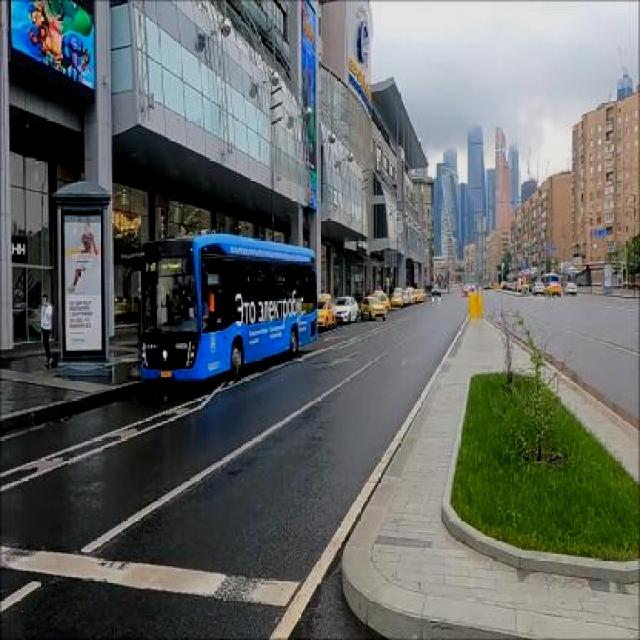bus: (138, 233, 322, 390)
